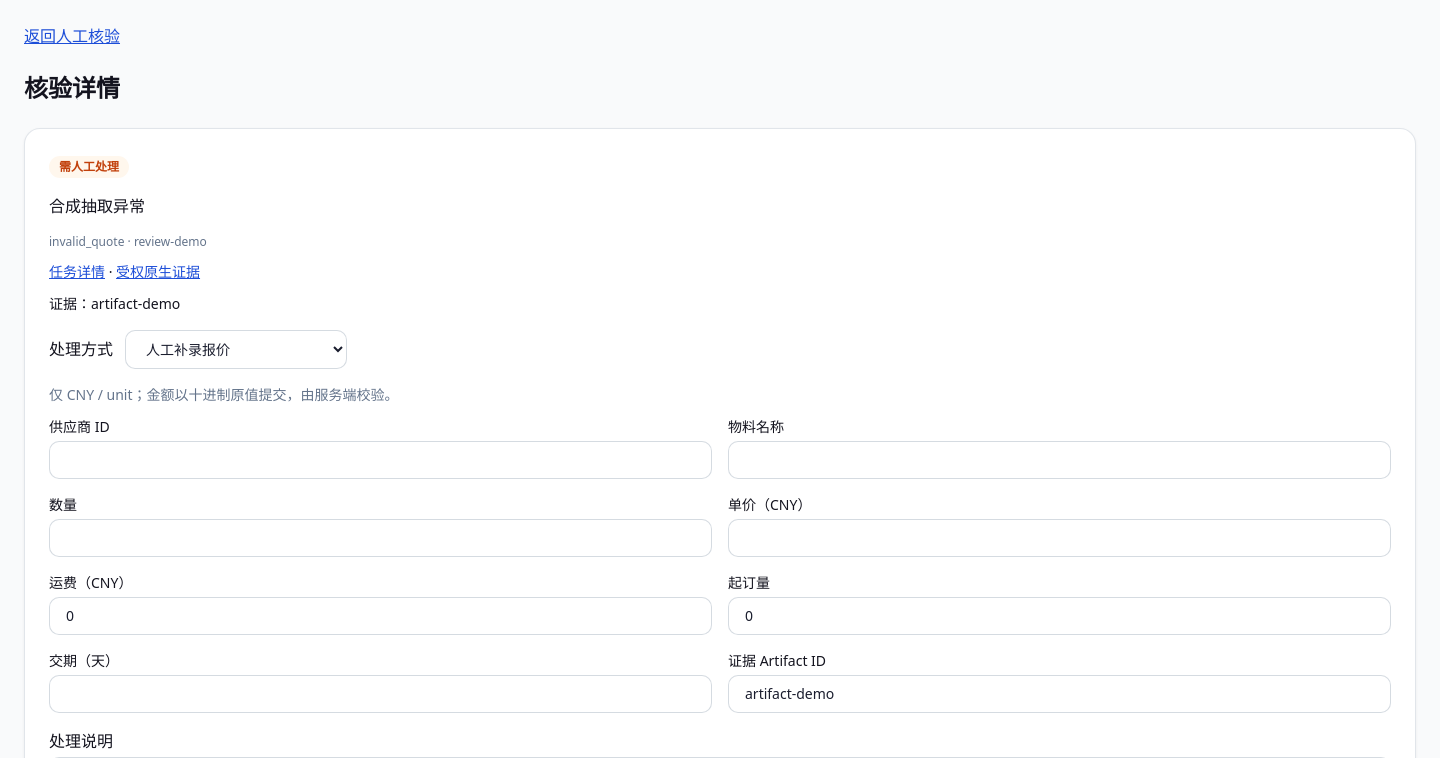
Test: marks skipped review as no quote and refreshes after processing
Select "跳过此步骤（不生成报价）" in the dropdown labelled "处理方式" at [236, 350], box [125,330,347,369]
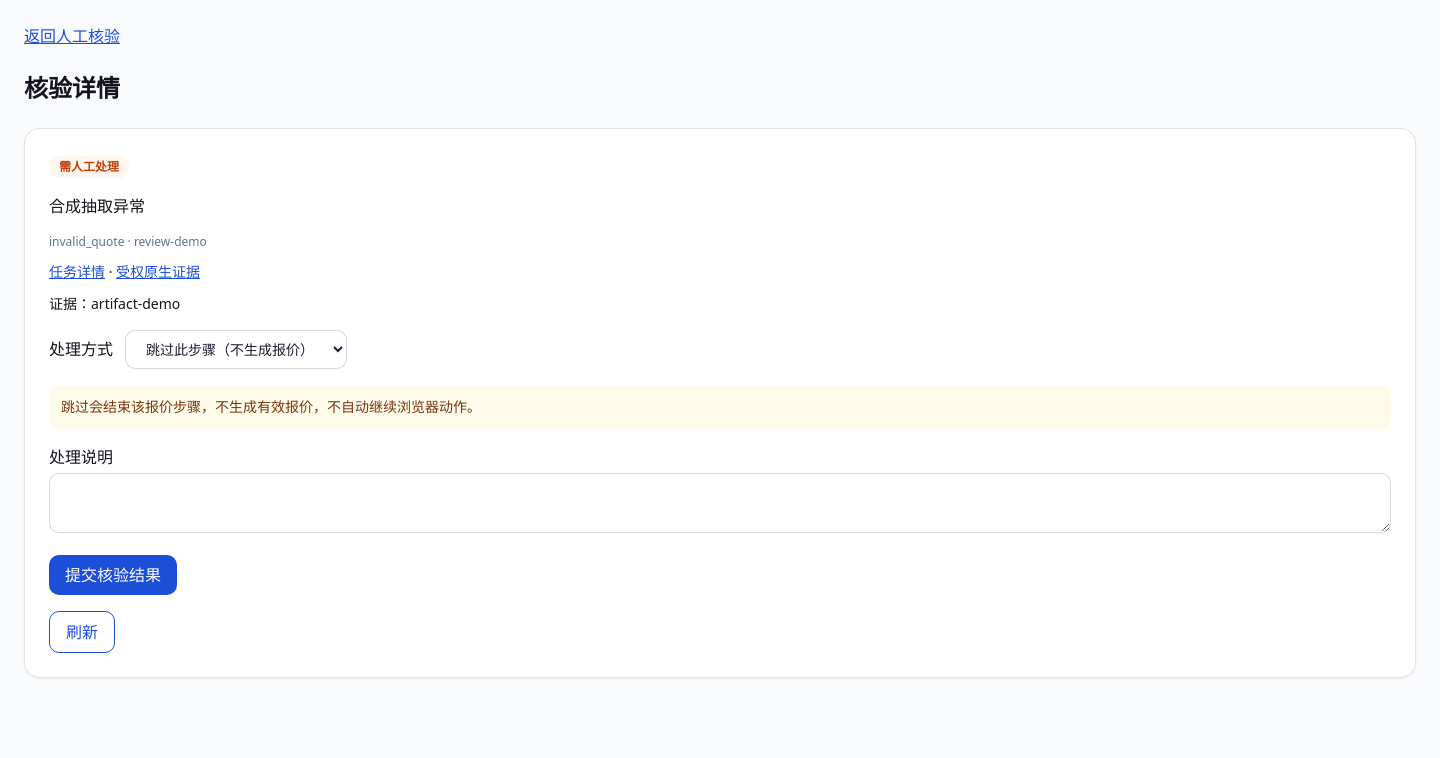
Click the button "提交核验结果" at [113, 575], box [49,555,177,595]
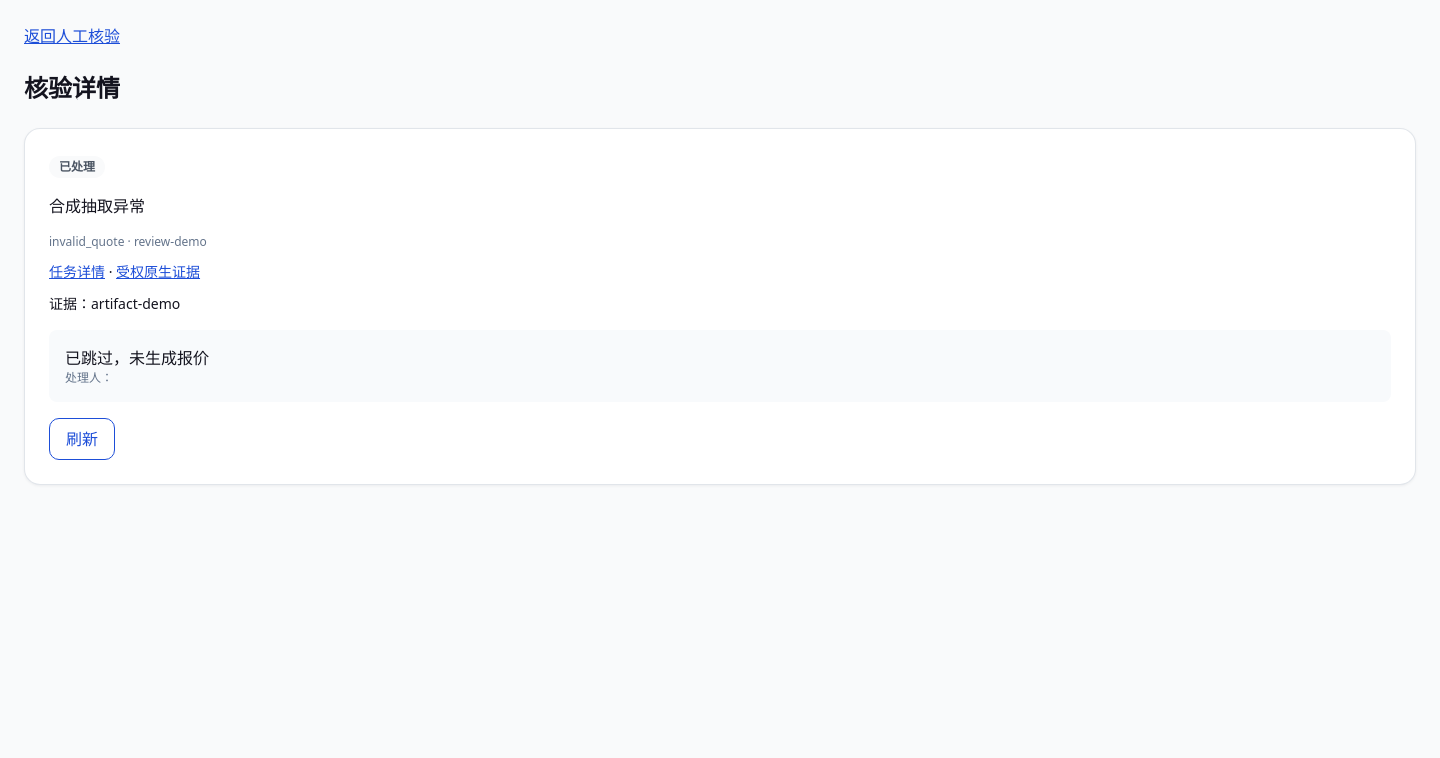
Check: the text "已跳过，未生成报价" is shown, box [65,347,209,369]
